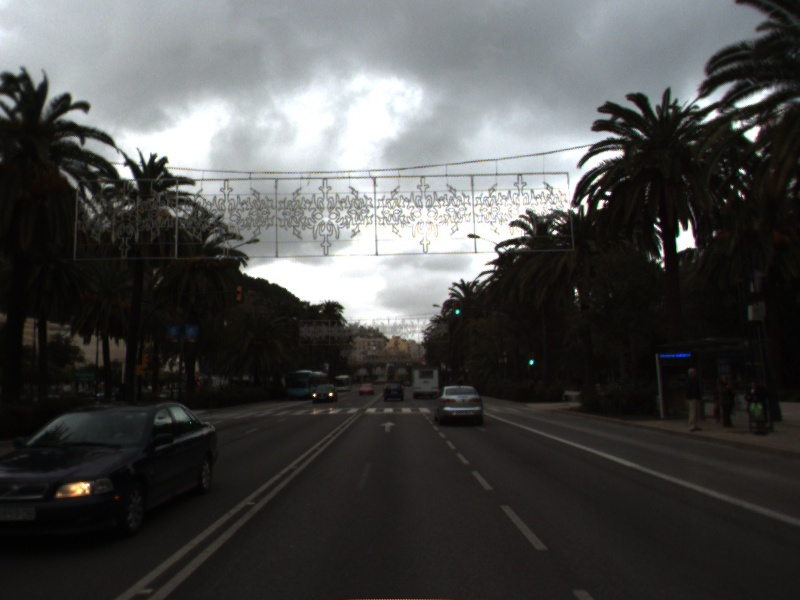STRAIGHT: (377, 419, 399, 434)
